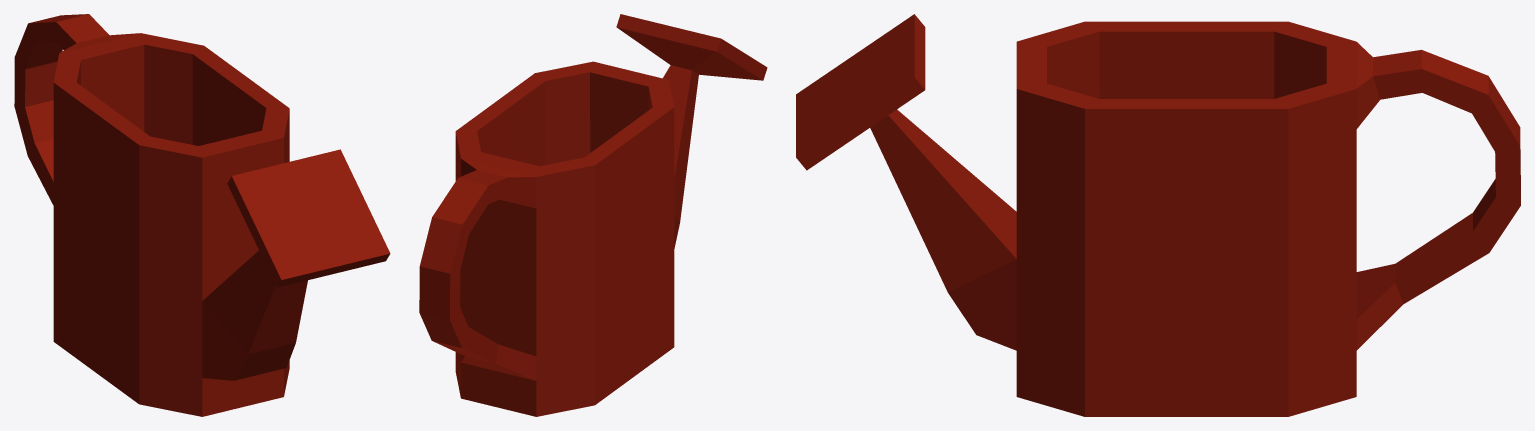
The model's file is Watering Can Empty.fbx.
3 views of the same model, side by side, from view 1: azimuth 30°, elevation 25°; view 2: azimuth 150°, elevation 25°; view 3: azimuth 270°, elevation 25° (orthographic). The views are drawn at different scales.
Visible parts, largest first — view 1: Watering Can Empty; view 2: Watering Can Empty; view 3: Watering Can Empty.
Boxes of the visible parts, x1,y1,x2,y2 form: Watering Can Empty: (14,14,390,416); Watering Can Empty: (419,14,767,416); Watering Can Empty: (796,14,1520,416).
Bounding box in the file's own units: 35.91 × 62.84 × 126.
